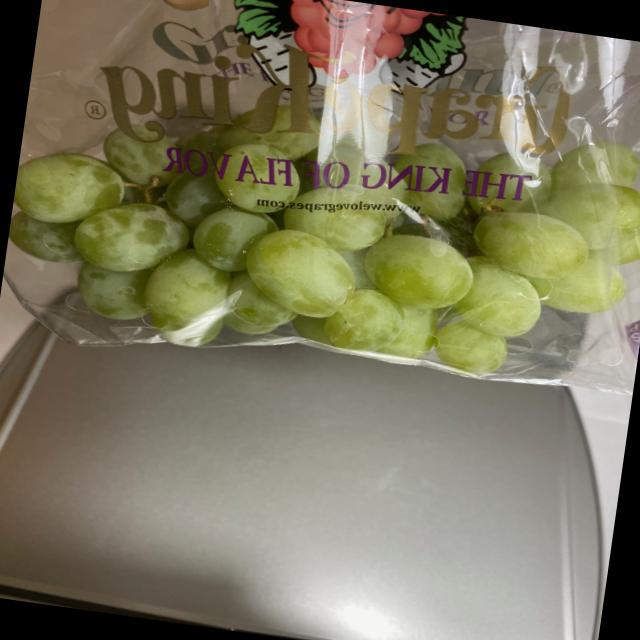grapes: (1, 69, 640, 418)
